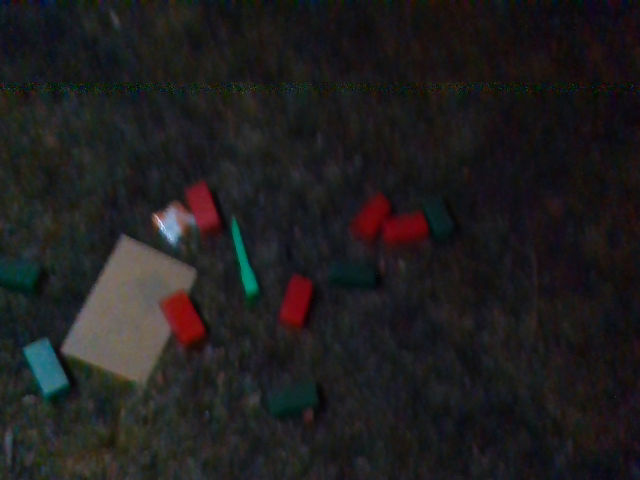Probe: (224, 214, 263, 304)
